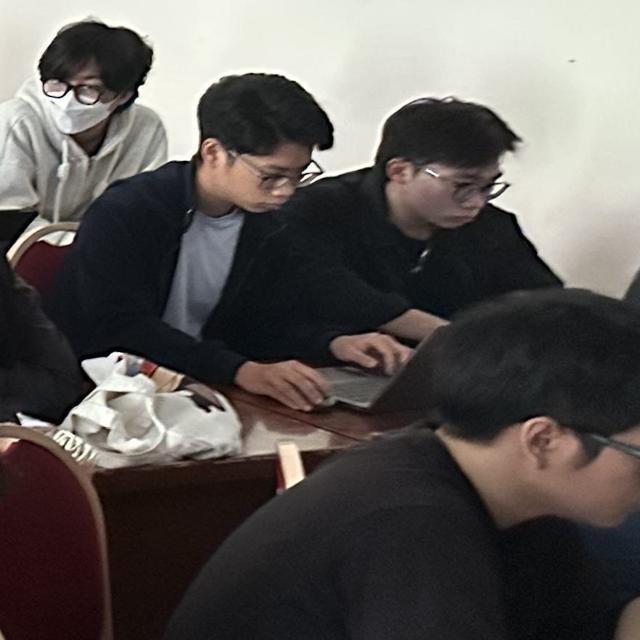Looking away: (378, 91, 538, 246), (188, 75, 337, 221), (40, 31, 143, 147)
